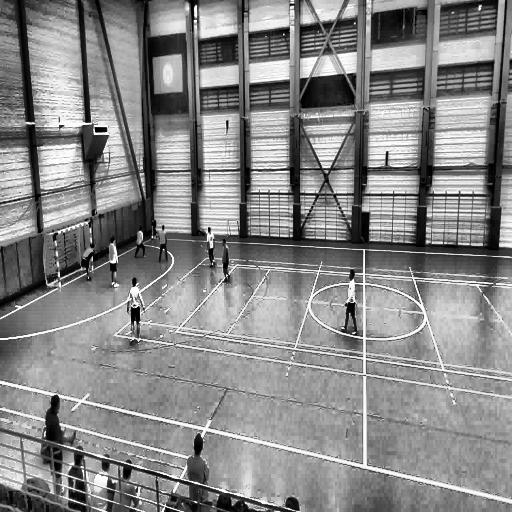ball: (150, 234, 154, 242)
player: (41, 396, 73, 500), (186, 434, 210, 507), (113, 454, 142, 512), (72, 443, 92, 512), (91, 452, 112, 512), (340, 268, 358, 334), (126, 276, 144, 341), (108, 238, 119, 288), (158, 224, 171, 262), (82, 242, 94, 281), (206, 226, 215, 269), (148, 215, 160, 243), (135, 226, 145, 258), (222, 238, 229, 280)
